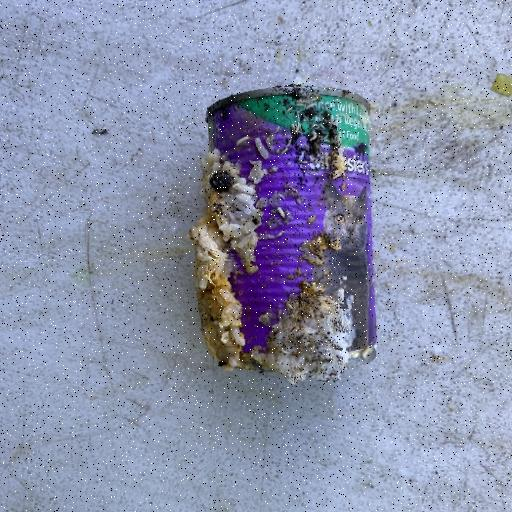Metal: (189, 82, 379, 385)
